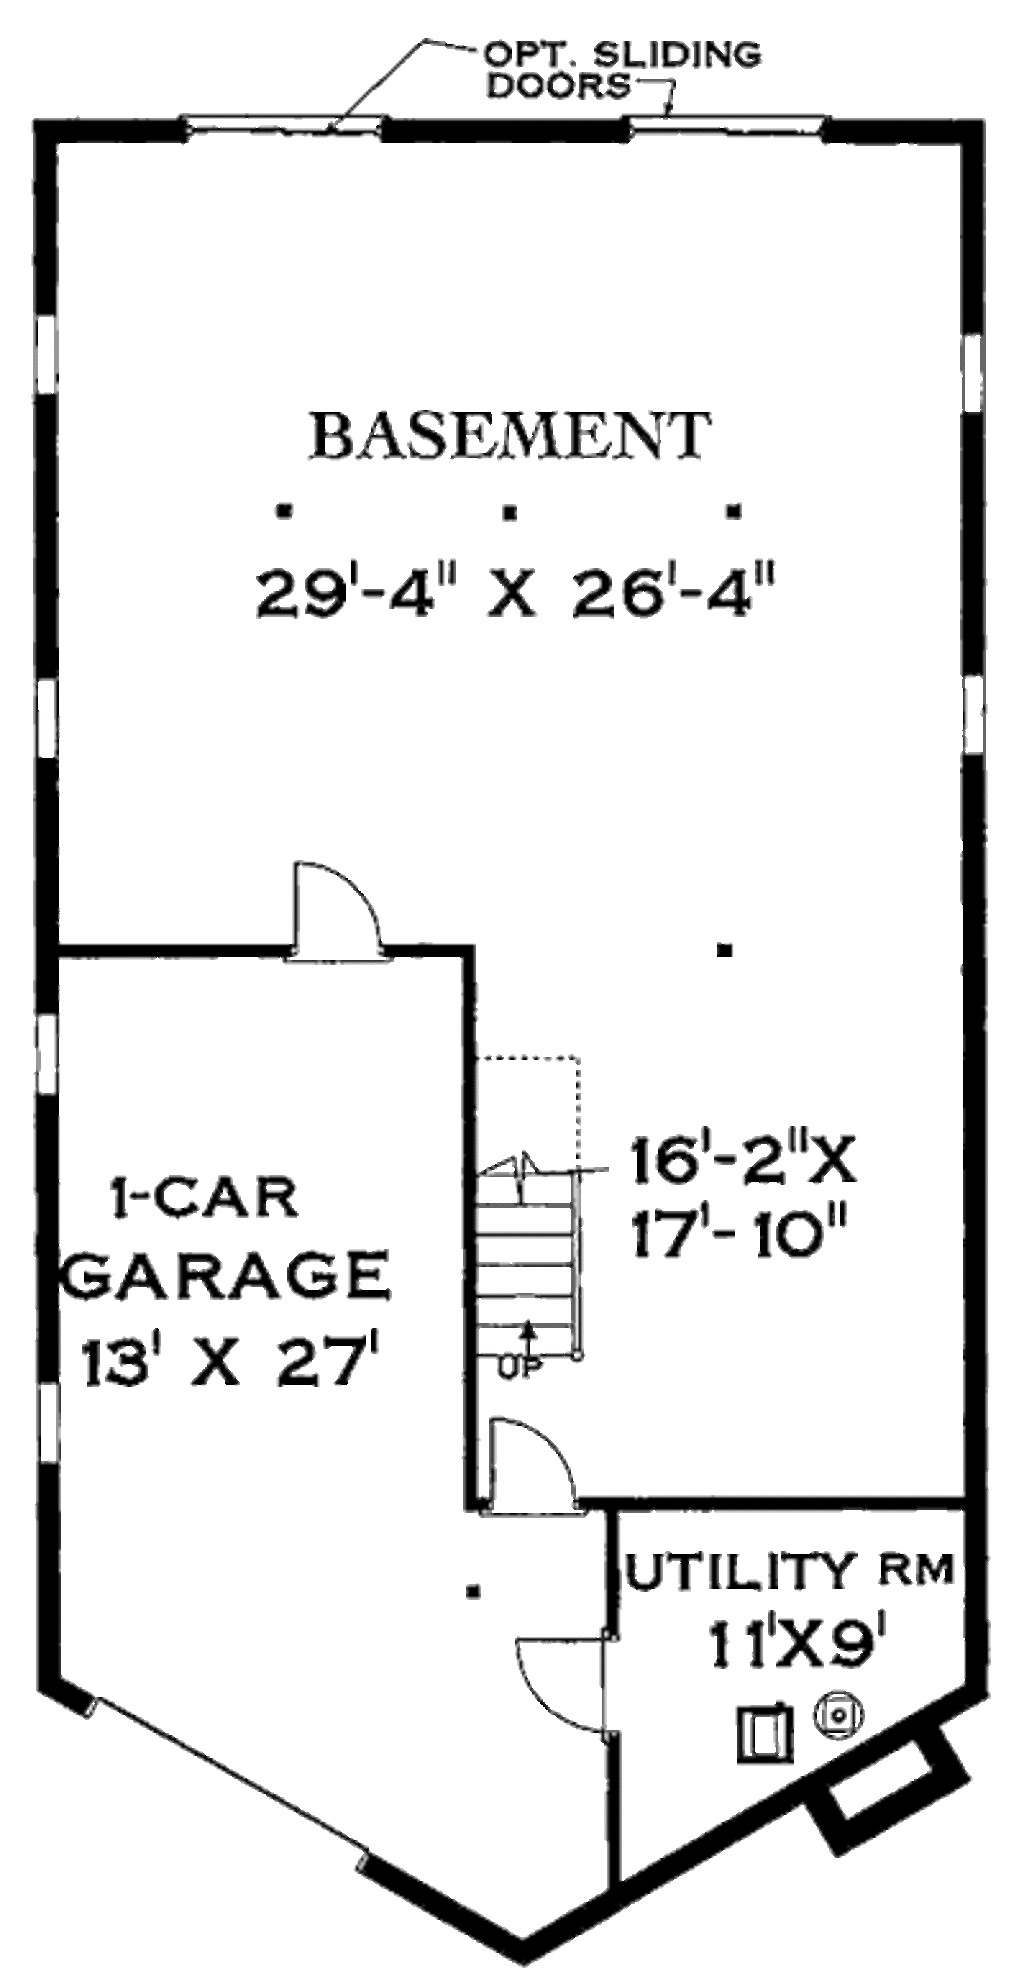door: (457, 1382, 622, 1547), (242, 840, 408, 983), (485, 1615, 647, 1752)
stairs: (460, 1032, 632, 1384)
window: (163, 90, 404, 149), (607, 97, 825, 146), (13, 299, 101, 405), (25, 1375, 110, 1476), (22, 1011, 85, 1131), (940, 324, 1000, 436), (950, 665, 1024, 753), (27, 676, 88, 777)
